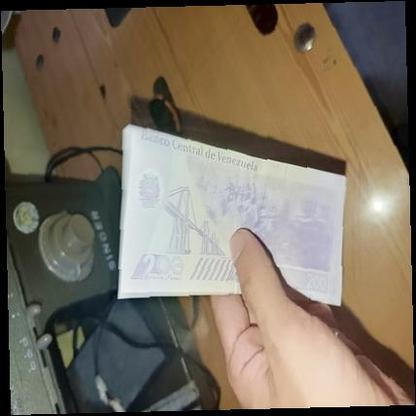two_hundred-back-vef: (116, 123, 349, 305)
